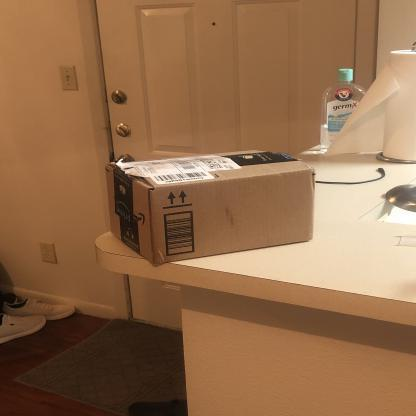package: (103, 149, 317, 269)
